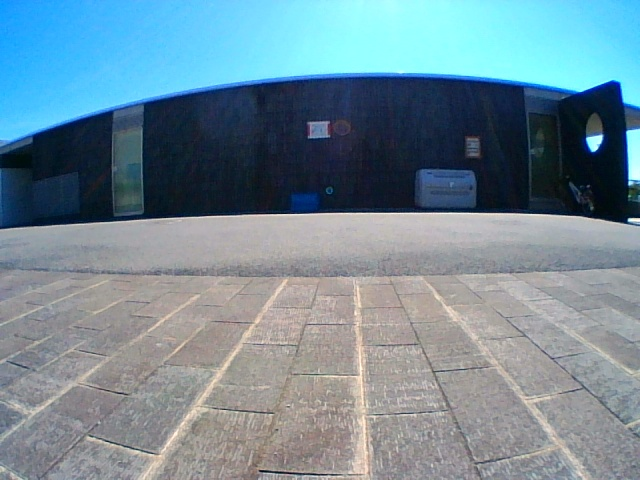blue_box: (289, 194, 317, 211)
